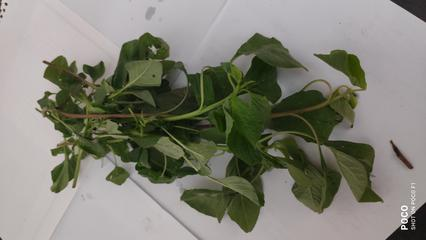spinach: (67, 77, 341, 211)
